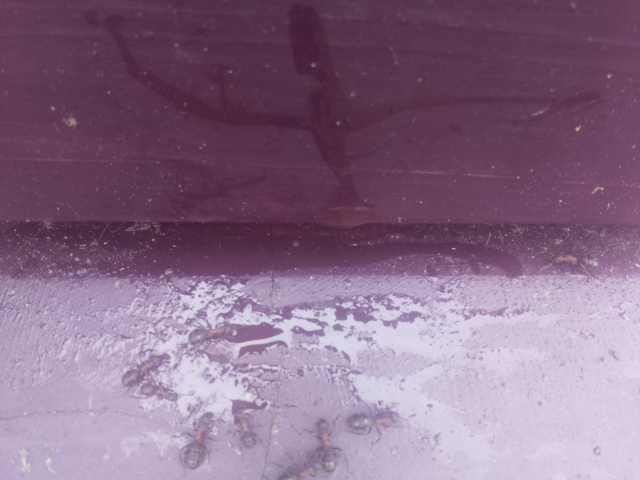ant: (172, 403, 224, 478), (114, 346, 172, 392), (179, 321, 247, 348), (339, 408, 403, 434), (311, 419, 342, 470), (232, 411, 257, 445)
